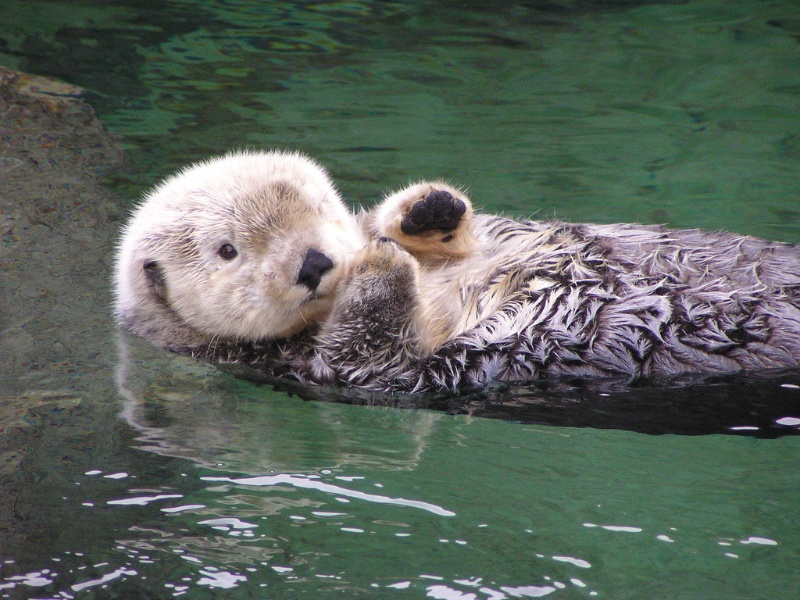minkish: (104, 144, 799, 441)
